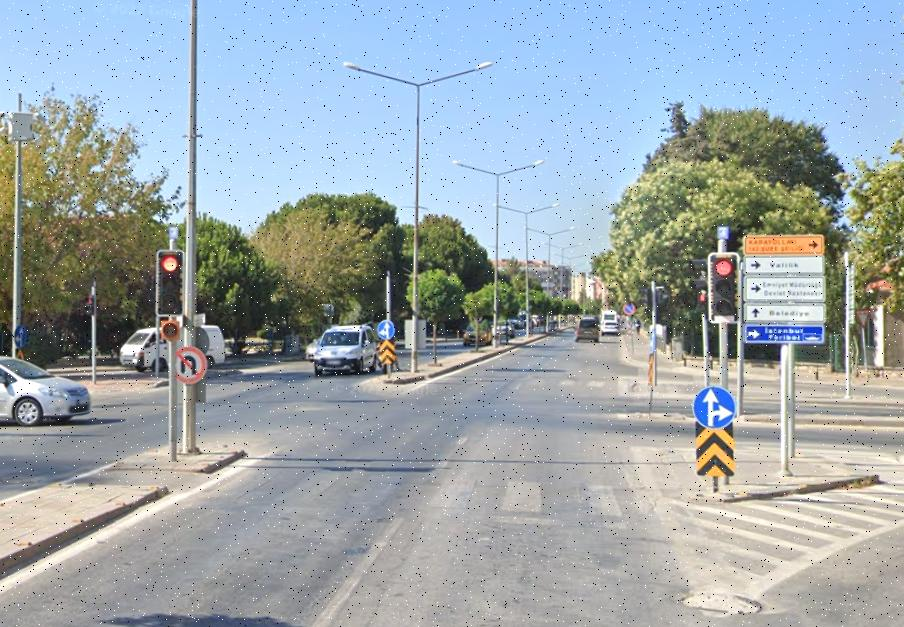nopark: (622, 299, 636, 315)
redlight: (708, 252, 737, 322), (157, 251, 183, 315)
